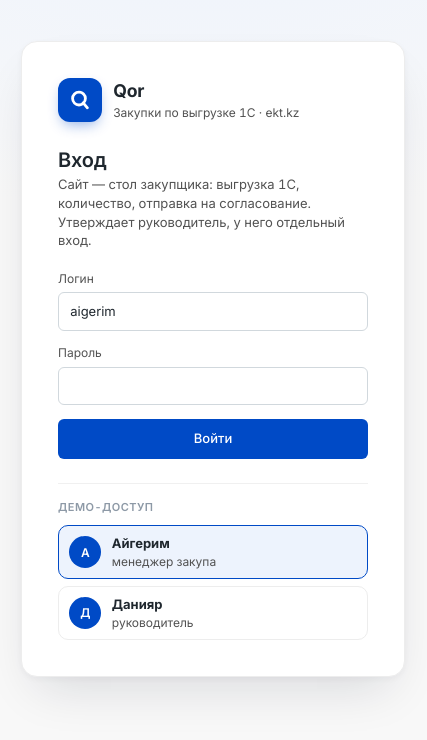
Test case: LoginScreen › ошибка входа показывается текстом
Type "buyer" into the password field labelled "Пароль". click: x=213, y=386
box: [58, 367, 368, 405]
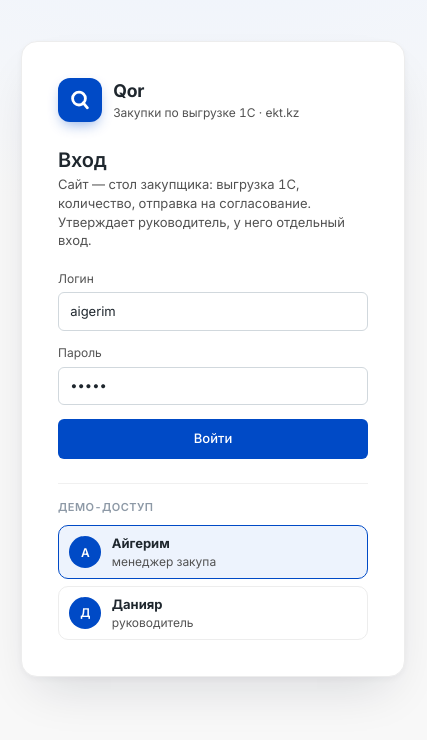
Click the button "Войти". click: x=213, y=439
box: [58, 419, 368, 459]
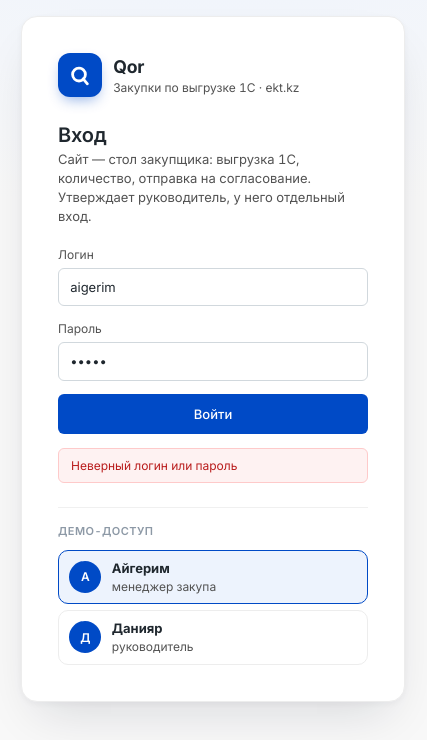
Check: the text "Неверный логин или пароль" is shown, box [58, 448, 368, 483]
